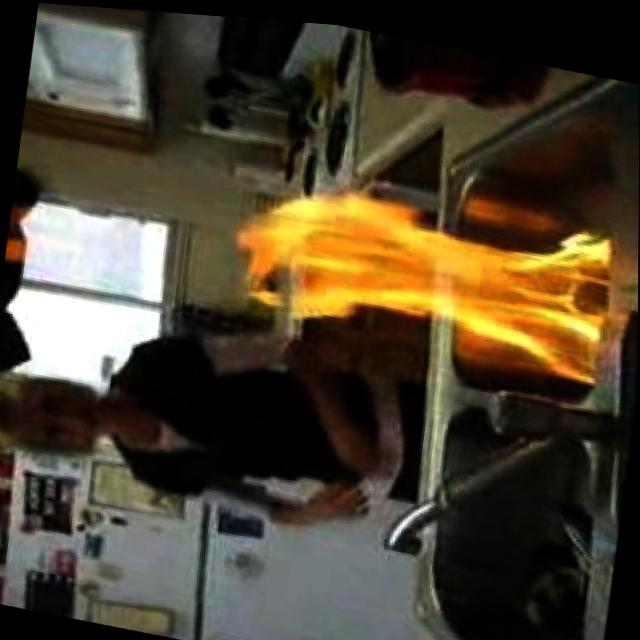helmet: (226, 162, 619, 383)
